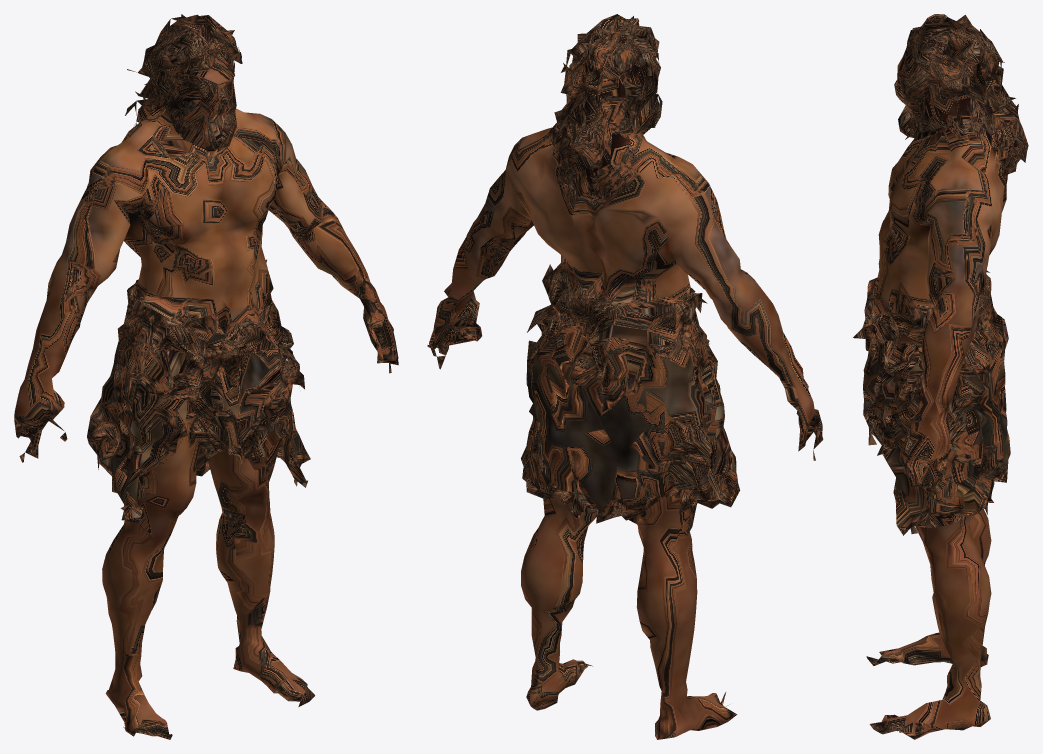
File: caveman_statue.glb
3 views of the same model, side by side, from view 1: azimuth 30°, elevation 25°; view 2: azimuth 150°, elevation 25°; view 3: azimuth 270°, elevation 25° (orthographic). The views are drawn at different scales.
Visible parts, largest first — view 1: body; view 2: body; view 3: body.
Part boxes in pixels (x1,y1,x2,y2): body: [14, 14, 398, 739]; body: [427, 14, 823, 739]; body: [853, 14, 1028, 739].
Size of the model in its own units: 1.06 by 1.85 by 0.433.
1 material, 1 textured.
